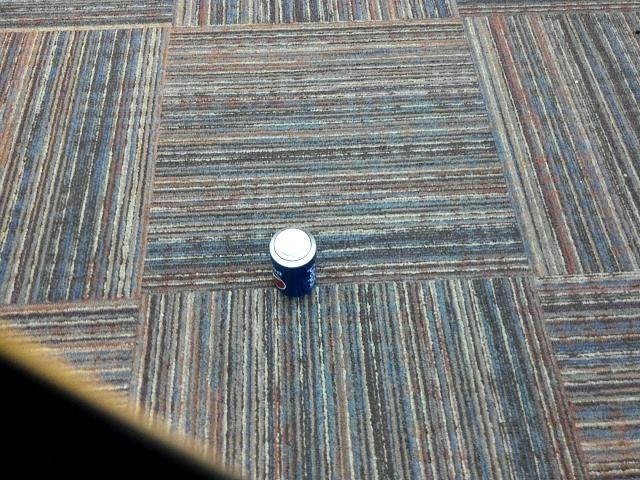can: (263, 225, 326, 301)
